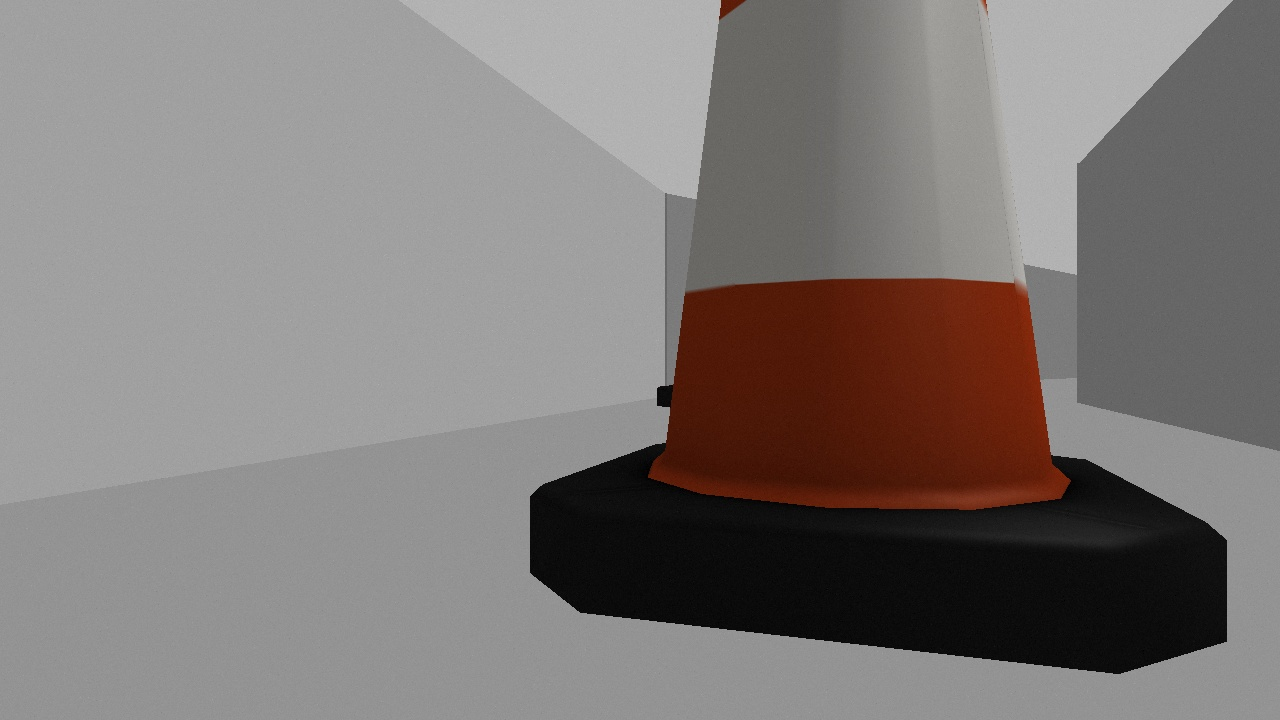barricade: (530, 1, 1227, 677)
